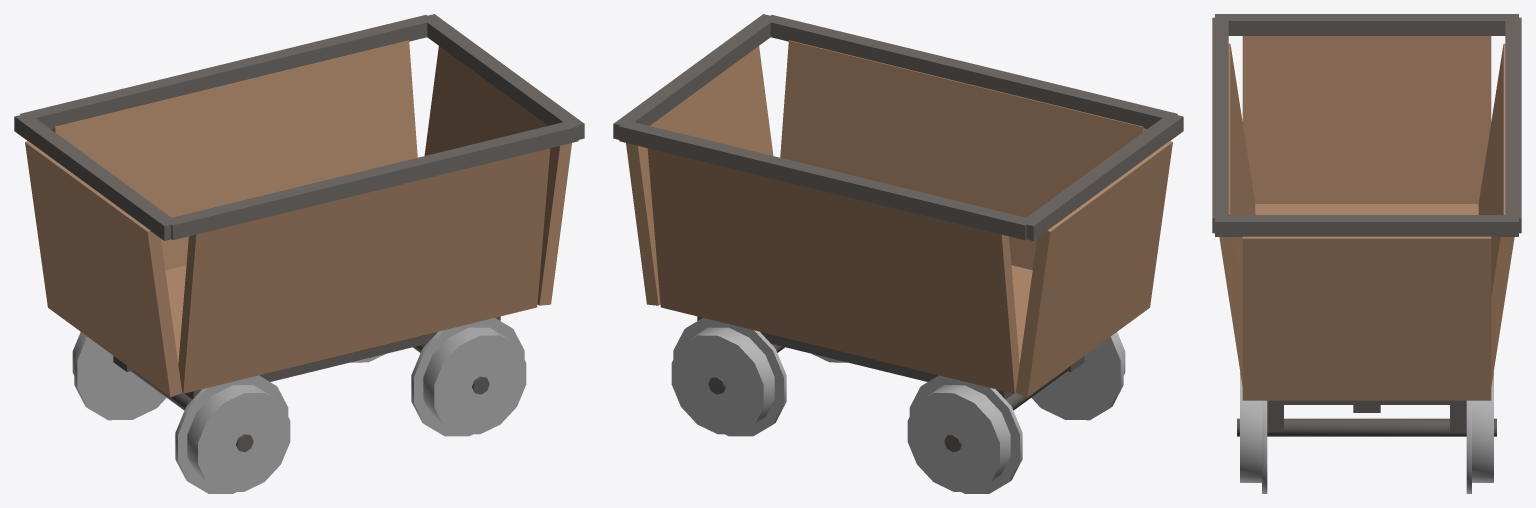
File: mine_cart.glb
3 views of the same model, side by side, from view 1: azimuth 30°, elevation 25°; view 2: azimuth 150°, elevation 25°; view 3: azimuth 270°, elevation 25° (orthographic).
Size of the model in its own units: 1.81 by 1.24 by 1.12.
